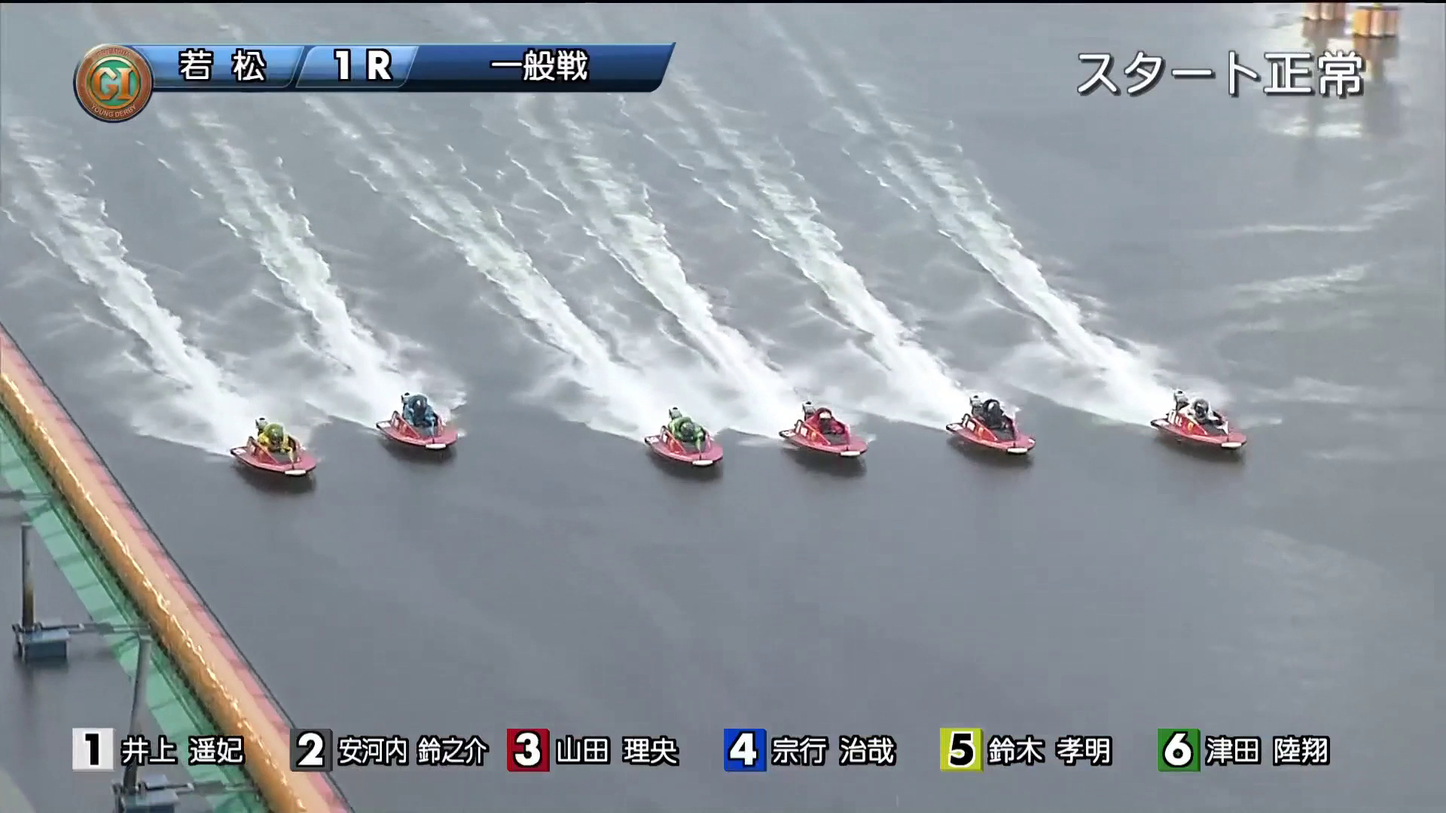１号艇: (1167, 399, 1254, 442)
２号艇: (958, 407, 1049, 446)
３号艇: (790, 425, 883, 467)
４号艇: (634, 416, 739, 460)
５号艇: (350, 387, 471, 442)
６号艇: (238, 424, 337, 481)
